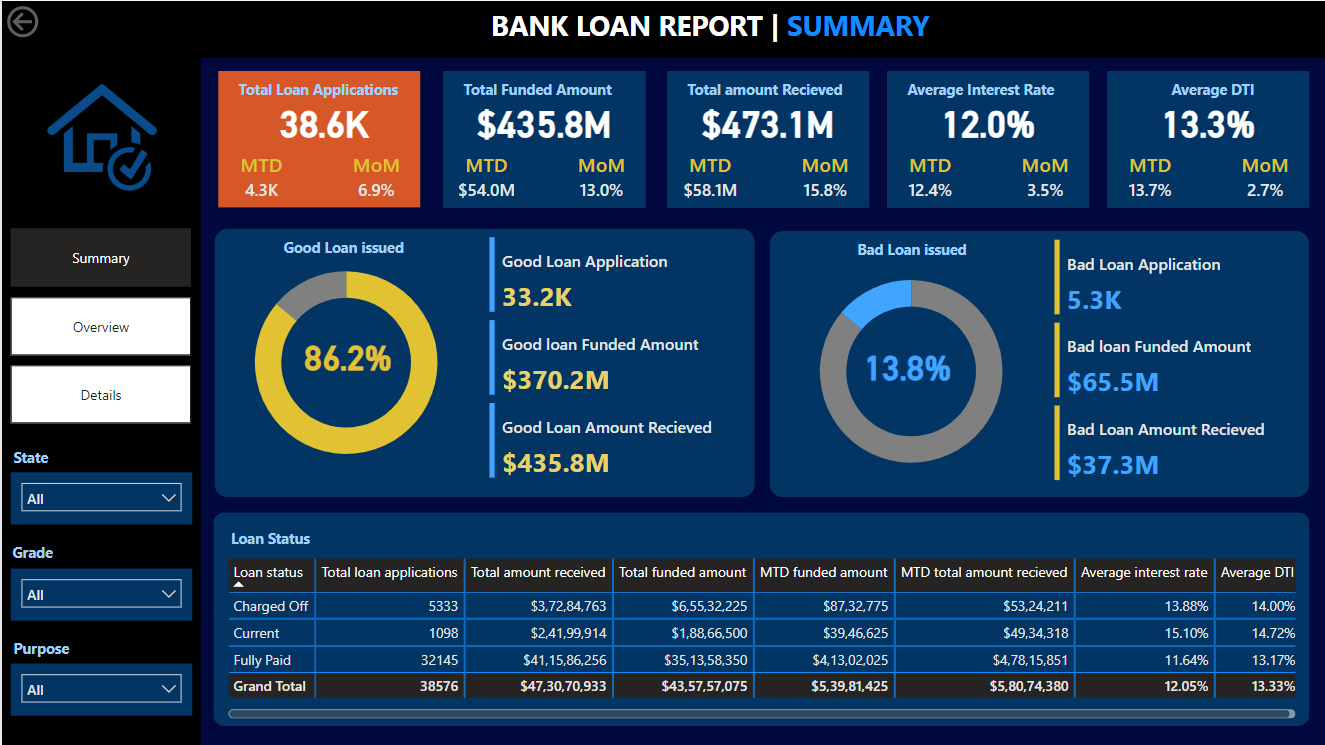

What the dashboard file says about the page in this screenshot:
{"tool":"powerbi","page":{"name":"Summary","canvas":[1280,720],"ordinal":0},"visuals":[{"type":"shape","box":[0,0,1279.7,55],"z":0},{"type":"shape","box":[0,0,191.8,720.2],"z":1000},{"type":"shape","box":[203.9,493.4,1058,206.3],"z":2000},{"type":"textbox","box":[441.6,0,469.3,54.3],"z":3000},{"type":"shape","box":[208.9,67.1,194.9,131.6],"z":3000,"group":"g1"},{"type":"shape","box":[426.3,67.1,194.9,131.6],"z":3000,"group":"g2"},{"type":"shape","box":[641.6,67.1,194.9,131.6],"z":3000,"group":"g3"},{"type":"shape","box":[854.2,67.1,194.9,131.6],"z":3000,"group":"g4"},{"type":"shape","box":[1066.8,67.1,194.9,131.6],"z":3000,"group":"g5"},{"type":"group","id":"g1","title":"Group 1","box":[208.9,67.1,198.7,131.6],"z":4000},{"type":"card","fields":{"Values":["bankloan_data financial_loan.Total loan applications"]},"box":[213.1,86,194.9,58.2],"z":4000,"group":"g1"},{"type":"card","fields":{"Values":["bankloan_data financial_loan.Total funded amount"]},"box":[426.3,86.1,194.9,58.2],"z":4000,"group":"g2"},{"type":"card","fields":{"Values":["bankloan_data financial_loan.Total amount received"]},"box":[641.6,86.1,194.9,58.2],"z":4000,"group":"g3"},{"type":"card","fields":{"Values":["bankloan_data financial_loan.Average interest rate"]},"box":[854.2,86.1,194.9,58.2],"z":4000,"group":"g4"},{"type":"card","fields":{"Values":["bankloan_data financial_loan.Average DTI"]},"box":[1066.8,86.1,194.9,58.2],"z":4000,"group":"g5"},{"type":"group","id":"g2","title":"Group 2","box":[426.3,67.1,194.9,131.6],"z":5000},{"type":"textbox","box":[222.8,70.9,181,29.1],"z":5000,"group":"g1"},{"type":"textbox","box":[440.2,70.9,181,29.1],"z":5000,"group":"g2"},{"type":"textbox","box":[655.5,70.9,181,29.1],"z":5000,"group":"g3"},{"type":"textbox","box":[868.1,70.9,181,29.1],"z":5000,"group":"g4"},{"type":"textbox","box":[1080.7,70.9,181,29.1],"z":5000,"group":"g5"},{"type":"group","id":"g3","title":"Group 2","box":[641.6,67.1,194.9,131.6],"z":6000},{"type":"card","title":"MTD","fields":{"Values":["bankloan_data financial_loan.MTD total applications"]},"box":[208.9,144.3,83.5,54.4],"z":6000,"group":"g1"},{"type":"card","title":"MTD","fields":{"Values":["bankloan_data financial_loan.MTD funded amount"]},"box":[426.3,144.3,83.5,54.4],"z":6000,"group":"g2"},{"type":"card","title":"MTD","fields":{"Values":["bankloan_data financial_loan.MTD total amount recieved"]},"box":[641.6,144.3,83.5,54.4],"z":6000,"group":"g3"},{"type":"card","title":"MTD","fields":{"Values":["bankloan_data financial_loan.MTD avg interest rate"]},"box":[854.2,144.3,83.5,54.4],"z":6000,"group":"g4"},{"type":"card","title":"MTD","fields":{"Values":["bankloan_data financial_loan.MTD Avg DTI"]},"box":[1066.8,144.3,83.5,54.4],"z":6000,"group":"g5"},{"type":"group","id":"g4","title":"Group 2","box":[854.2,67.1,194.9,131.6],"z":7000},{"type":"card","title":"MoM","fields":{"Values":["bankloan_data financial_loan.MoM loan application"]},"box":[320.3,144.3,83.5,54.4],"z":7000,"group":"g1"},{"type":"card","title":"MoM","fields":{"Values":["bankloan_data financial_loan.MoM total funded amount"]},"box":[537.7,144.3,83.5,54.4],"z":7000,"group":"g2"},{"type":"card","title":"MoM","fields":{"Values":["bankloan_data financial_loan.MoM total amount recieved"]},"box":[753,144.3,83.5,54.4],"z":7000,"group":"g3"},{"type":"card","title":"MoM","fields":{"Values":["bankloan_data financial_loan.MoM Average interest rate"]},"box":[965.6,144.3,83.5,54.4],"z":7000,"group":"g4"},{"type":"card","title":"MoM","fields":{"Values":["bankloan_data financial_loan.MoM Average DTI"]},"box":[1178.2,144.3,83.5,54.4],"z":7000,"group":"g5"},{"type":"group","id":"g5","title":"Group 2","box":[1066.8,67.1,194.9,131.6],"z":8000},{"type":"actionButton","box":[0,0,100,40],"z":9000},{"type":"shape","box":[205.1,219,521.5,259.5],"z":10000},{"type":"textbox","box":[266.6,223.2,181,29],"z":11000},{"type":"donutChart","fields":{"Category":["bankloan_data financial_loan.Good vs Bad Loan"],"Y":["bankloan_data financial_loan.Total loan applications"]},"box":[207.5,234,249.7,230.4],"z":11000,"group":"g6"},{"type":"donutChart","fields":{"Category":["bankloan_data financial_loan.Good vs Bad Loan"],"Y":["bankloan_data financial_loan.Total loan applications"]},"box":[752.8,242.5,249.7,230.4],"z":11000,"group":"g7"},{"type":"cardVisual","fields":{"Data":["bankloan_data financial_loan.Good loan application","bankloan_data financial_loan.Good loan recieved amount","bankloan_data financial_loan.Good loan amount recieved"]},"box":[465.7,223.2,243.7,242.5],"z":12000},{"type":"card","fields":{"Values":["bankloan_data financial_loan.Good loan percentage"]},"box":[277.2,313.9,112.7,58.2],"z":12000,"group":"g6"},{"type":"card","fields":{"Values":["bankloan_data financial_loan.Bad loan percentage"]},"box":[817.9,323.3,112.2,57.9],"z":12000,"group":"g7"},{"type":"group","id":"g6","title":"Group 3","box":[207.5,234,249.7,230.4],"z":13000},{"type":"shape","box":[740.8,222,521.2,257],"z":14000},{"type":"textbox","box":[820.4,225.6,181,29],"z":15000},{"type":"cardVisual","fields":{"Data":["bankloan_data financial_loan.Bad Loan Application","bankloan_data financial_loan.Bad loan Funded Amount","bankloan_data financial_loan.Bad Loan Amount Recieved"]},"box":[1011.2,225.6,243.7,242.5],"z":16000},{"type":"group","id":"g7","title":"Group 3","box":[752.8,242.5,249.7,230.4],"z":17000},{"type":"tableEx","fields":{"Values":["bankloan_data financial_loan.loan_status","bankloan_data financial_loan.Total loan applications","bankloan_data financial_loan.Total amount received","bankloan_data financial_loan.Total funded amount","bankloan_data financial_loan.MTD funded amount","bankloan_data financial_loan.MTD total amount recieved","bankloan_data financial_loan.Average interest rate","bankloan_data financial_loan.Average DTI"]},"box":[212.3,533.2,1041.2,164.1],"z":18000},{"type":"textbox","box":[216,504.3,181,29],"z":19000},{"type":"group","id":"g8","title":"Group 4","box":[4.8,425.9,182.2,264.2],"z":20000},{"type":"slicer","fields":{"Values":["bankloan_data financial_loan.address_state"]},"box":[8.4,454.9,174.9,50.7],"z":20000,"group":"g8"},{"type":"image","box":[33.8,60.3,125.5,143.6],"z":21000},{"type":"textbox","box":[6,425.9,181,29],"z":21000,"group":"g8"},{"type":"pageNavigator","box":[8.4,219.6,174.9,188.2],"z":22000},{"type":"slicer","fields":{"Values":["bankloan_data financial_loan.grade"]},"box":[8.4,547.8,174.9,50.7],"z":22000,"group":"g8"},{"type":"textbox","box":[4.8,517.6,181,29],"z":23000,"group":"g8"},{"type":"textbox","box":[6,610.5,181,29],"z":24000,"group":"g8"},{"type":"slicer","fields":{"Values":["bankloan_data financial_loan.purpose"]},"box":[8.4,639.4,174.9,50.7],"z":25000,"group":"g8"}]}

Visuals, with their boxes in screenshot pixels (x1, y1, x2, y2), scaled from the page's 1280x720 canvas onto the 1325x745 screenshot:
shape: bbox=[0, 0, 1324, 57]
shape: bbox=[0, 0, 199, 744]
shape: bbox=[211, 511, 1306, 724]
textbox: bbox=[457, 0, 943, 56]
shape: bbox=[216, 69, 418, 206]
shape: bbox=[441, 69, 643, 206]
shape: bbox=[664, 69, 866, 206]
shape: bbox=[884, 69, 1086, 206]
shape: bbox=[1104, 69, 1306, 206]
"Group 1" group: bbox=[216, 69, 422, 206]
card - bankloan_data financial_loan.Total loan applications: bbox=[221, 89, 422, 149]
card - bankloan_data financial_loan.Total funded amount: bbox=[441, 89, 643, 149]
card - bankloan_data financial_loan.Total amount received: bbox=[664, 89, 866, 149]
card - bankloan_data financial_loan.Average interest rate: bbox=[884, 89, 1086, 149]
card - bankloan_data financial_loan.Average DTI: bbox=[1104, 89, 1306, 149]
"Group 2" group: bbox=[441, 69, 643, 206]
textbox: bbox=[231, 73, 418, 103]
textbox: bbox=[456, 73, 643, 103]
textbox: bbox=[679, 73, 866, 103]
textbox: bbox=[899, 73, 1086, 103]
textbox: bbox=[1119, 73, 1306, 103]
"Group 2" group: bbox=[664, 69, 866, 206]
"MTD" card: bbox=[216, 149, 303, 206]
"MTD" card: bbox=[441, 149, 528, 206]
"MTD" card: bbox=[664, 149, 751, 206]
"MTD" card: bbox=[884, 149, 971, 206]
"MTD" card: bbox=[1104, 149, 1191, 206]
"Group 2" group: bbox=[884, 69, 1086, 206]
"MoM" card: bbox=[332, 149, 418, 206]
"MoM" card: bbox=[557, 149, 643, 206]
"MoM" card: bbox=[779, 149, 866, 206]
"MoM" card: bbox=[1000, 149, 1086, 206]
"MoM" card: bbox=[1220, 149, 1306, 206]
"Group 2" group: bbox=[1104, 69, 1306, 206]
actionButton: bbox=[0, 0, 104, 41]
shape: bbox=[212, 227, 752, 495]
textbox: bbox=[276, 231, 463, 261]
donutChart - bankloan_data financial_loan.Good vs Bad Loan x bankloan_data financial_loan.Total loan applications: bbox=[215, 242, 473, 481]
donutChart - bankloan_data financial_loan.Good vs Bad Loan x bankloan_data financial_loan.Total loan applications: bbox=[779, 251, 1038, 489]
cardVisual - bankloan_data financial_loan.Good loan application x bankloan_data financial_loan.Good loan recieved amount: bbox=[482, 231, 734, 482]
card - bankloan_data financial_loan.Good loan percentage: bbox=[287, 325, 404, 385]
card - bankloan_data financial_loan.Bad loan percentage: bbox=[847, 335, 963, 394]
"Group 3" group: bbox=[215, 242, 473, 481]
shape: bbox=[767, 230, 1306, 496]
textbox: bbox=[849, 233, 1037, 263]
cardVisual - bankloan_data financial_loan.Bad Loan Application x bankloan_data financial_loan.Bad loan Funded Amount: bbox=[1047, 233, 1299, 484]
"Group 3" group: bbox=[779, 251, 1038, 489]
tableEx - bankloan_data financial_loan.loan_status x bankloan_data financial_loan.Total loan applications: bbox=[220, 552, 1298, 722]
textbox: bbox=[224, 522, 411, 552]
"Group 4" group: bbox=[5, 441, 194, 714]
slicer - bankloan_data financial_loan.address_state: bbox=[9, 471, 190, 523]
image: bbox=[35, 62, 165, 211]
textbox: bbox=[6, 441, 194, 471]
pageNavigator: bbox=[9, 227, 190, 422]
slicer - bankloan_data financial_loan.grade: bbox=[9, 567, 190, 619]
textbox: bbox=[5, 536, 192, 566]
textbox: bbox=[6, 632, 194, 662]
slicer - bankloan_data financial_loan.purpose: bbox=[9, 662, 190, 714]
